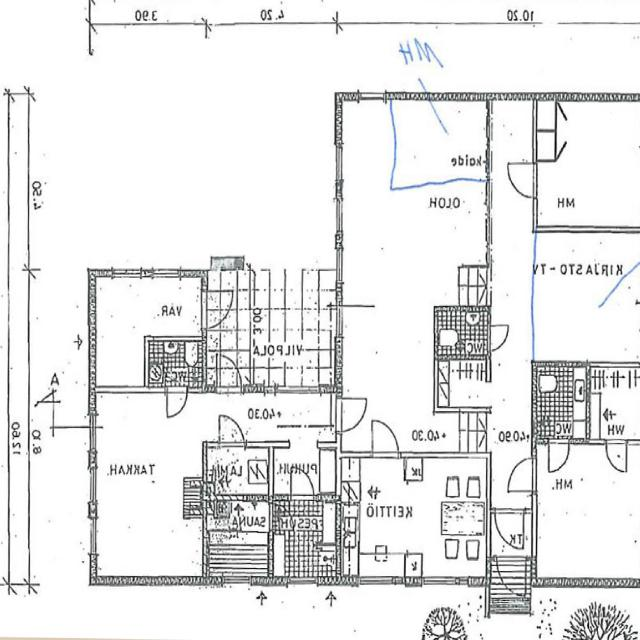door: (497, 556, 526, 603), (201, 292, 235, 328), (496, 509, 524, 550), (506, 163, 537, 198), (506, 253, 537, 287), (506, 458, 537, 491), (373, 419, 399, 458), (338, 399, 368, 432), (216, 354, 242, 392), (220, 411, 244, 449), (291, 466, 314, 501), (416, 152, 438, 186), (382, 152, 404, 186), (268, 504, 294, 531), (606, 439, 627, 470), (168, 386, 188, 418), (486, 326, 511, 351), (549, 439, 569, 470)
